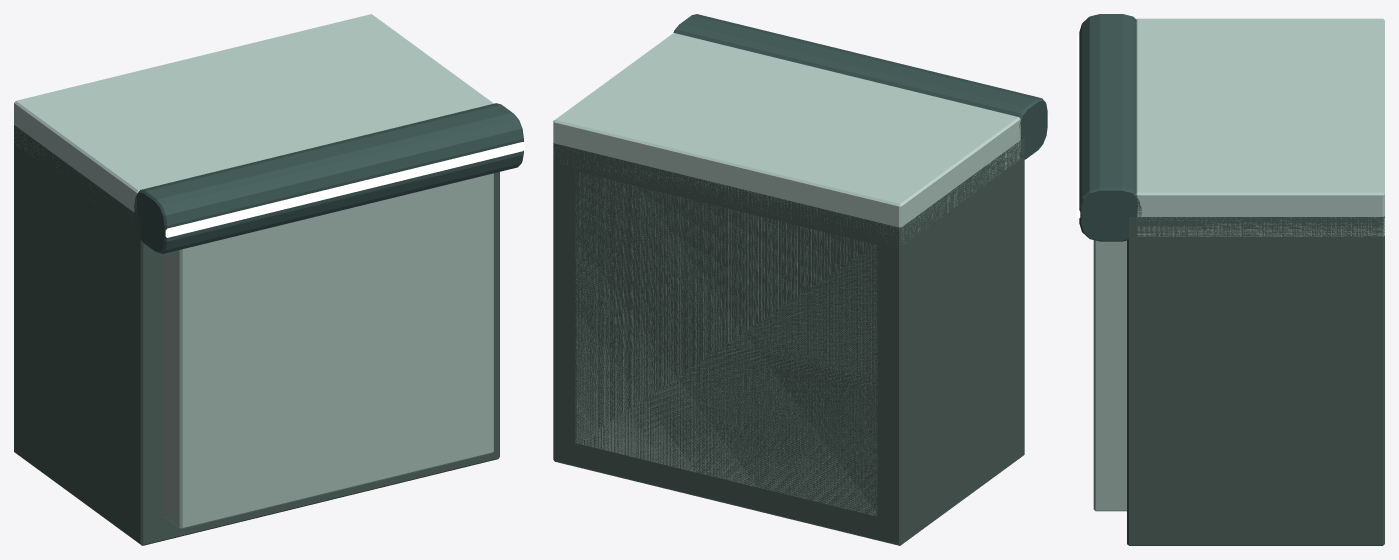
Rendered from Terrain_TopRun1.gltf.
3 renders of one model, left to right at view 1: azimuth 30°, elevation 25°; view 2: azimuth 150°, elevation 25°; view 3: azimuth 270°, elevation 25°, orthographic. The views are drawn at different scales.
Parts seen in each view (by area): view 1: Terrain_TopRun1_baked; view 2: Terrain_TopRun1_baked; view 3: Terrain_TopRun1_baked.
Part boxes in pixels (box(x1,y1,x2,y2)): Terrain_TopRun1_baked: box(14, 14, 524, 545); Terrain_TopRun1_baked: box(553, 14, 1048, 545); Terrain_TopRun1_baked: box(1077, 14, 1384, 545).
Size of the model in its own units: 1 by 0.9495 by 0.74.
